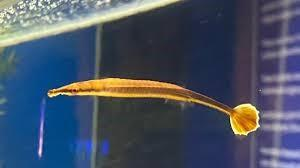Long-Snouted Pipefish: (35, 76, 260, 138)
